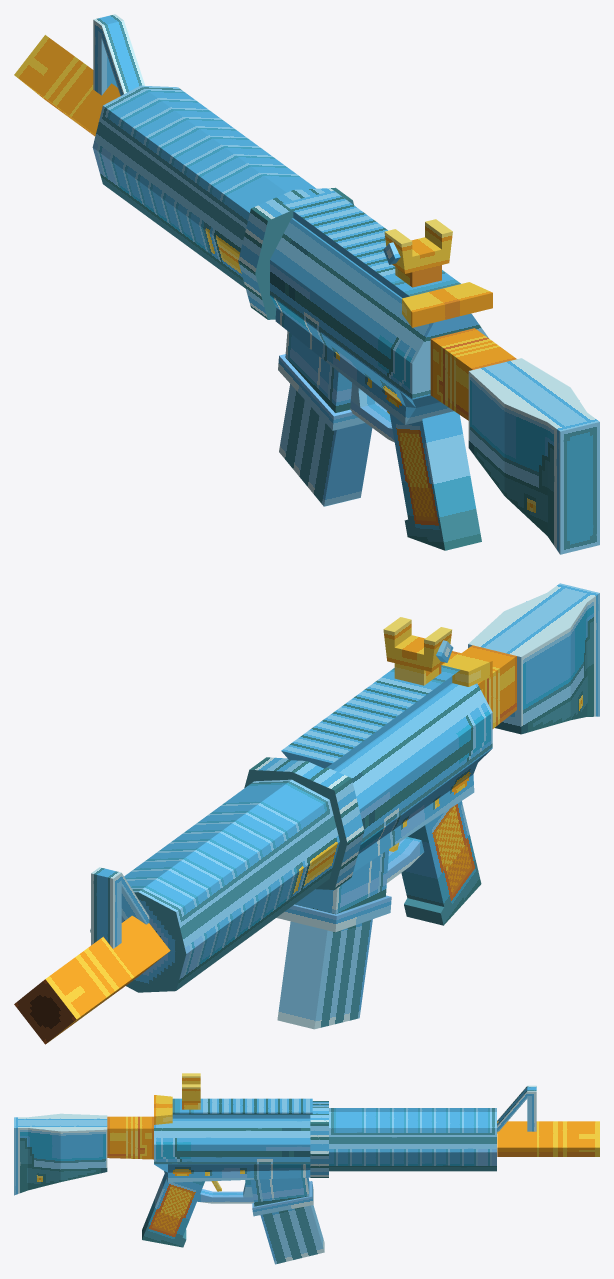
The model's file is m4a4-fun.gltf.
3 renders of one model, top to bottom at view 1: azimuth 30°, elevation 25°; view 2: azimuth 150°, elevation 25°; view 3: azimuth 270°, elevation 25°, orthographic. The views are drawn at different scales.
Visible parts, largest first — view 1: cube (×17); view 2: cube (×17); view 3: cube (×15).
Part boxes in pixels (left/top/right/bottom): cube (×17): left=14, top=14, right=599, bottom=554; cube (×17): left=14, top=583, right=599, bottom=1044; cube (×15): left=14, top=1084, right=599, bottom=1264.
Size of the model in its own units: 0.4688 by 1.33 by 3.93.
Materials: 3 (3 with a texture image).
